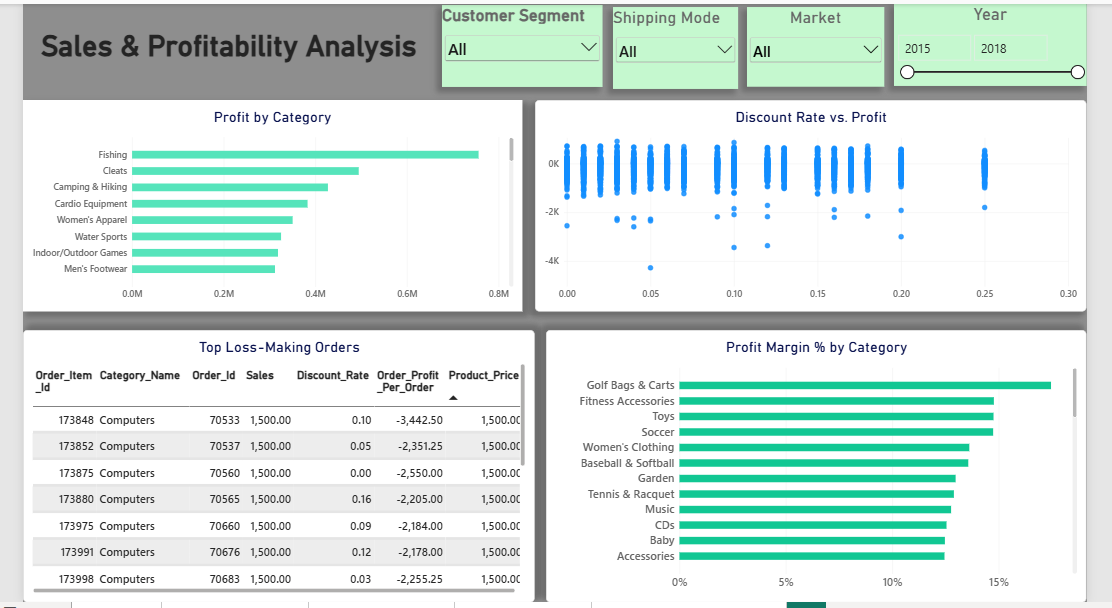

Layout of this report page (visuals, bound fields, positions):
{"tool":"powerbi","page":{"name":"Sales & Profitability","canvas":[1920,1080],"ordinal":1},"visuals":[{"type":"clusteredBarChart","title":"Profit by Category","fields":{"Category":["Dim_Product.Category_Name"],"Y":["Measure Table.Total Profit"]},"box":[0,174,902,382],"z":0},{"type":"clusteredBarChart","title":"Profit Margin % by Category","fields":{"Y":["Measure Table.Profit Margin %"],"Category":["Dim_Product.Category_Name"]},"box":[944,588,976,492],"z":1000},{"type":"scatterChart","title":"Discount Rate vs. Profit","fields":{"X":["Fact_Orders.Discount_Rate"],"Y":["Fact_Orders.Order_Profit_Per_Order"]},"box":[924,174,996,382],"z":2000},{"type":"tableEx","title":"Top Loss-Making Orders","fields":{"Values":["Fact_Orders.Order_Item_Id","Dim_Product.Category_Name","Fact_Orders.Order_Id","Fact_Orders.Sales","Fact_Orders.Discount_Rate","Fact_Orders.Order_Profit_Per_Order","Dim_Product.Product_Price"]},"box":[0,588,924,492],"z":3000},{"type":"slicer","title":"  Year","fields":{"Values":["Dim_Date.Year"]},"box":[1572.5,0,347.5,147.5],"z":4000},{"type":"slicer","title":"Market","fields":{"Values":["Fact_Orders.Market"]},"box":[1307.5,5,248,144],"z":5000},{"type":"slicer","title":"Customer Segment","fields":{"Values":["Dim_Customer.Customer_Segment"]},"box":[757.5,2.5,290,148],"z":6000},{"type":"slicer","title":"Shipping Mode","fields":{"Values":["Fact_Orders.Shipping_Mode"]},"box":[1065,5,226,148],"z":7000},{"type":"textbox","box":[0,45.4,743.2,72.3],"z":8000}]}

Visuals, with their boxes in screenshot pixels (x1, y1, x2, y2), scaled from the page's 1920x1080 canvas onto the 1112x608 screenshot:
"Profit by Category" clusteredBarChart: 0, 98, 522, 313
"Profit Margin % by Category" clusteredBarChart: 547, 331, 1111, 607
"Discount Rate vs. Profit" scatterChart: 535, 98, 1111, 313
"Top Loss-Making Orders" tableEx: 0, 331, 535, 607
"  Year" slicer: 911, 0, 1111, 83
"Market" slicer: 757, 3, 901, 84
"Customer Segment" slicer: 439, 1, 607, 85
"Shipping Mode" slicer: 617, 3, 748, 86
textbox: 0, 26, 430, 66
